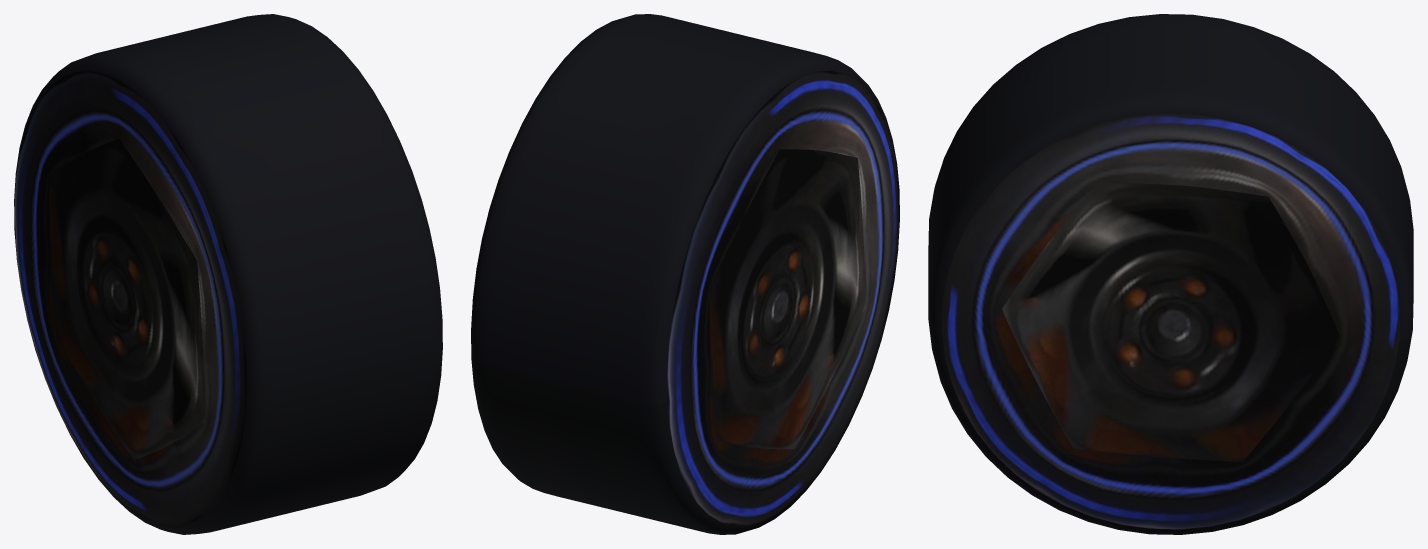
File: llanta.obj
3 views of the same model, side by side, from view 1: azimuth 30°, elevation 25°; view 2: azimuth 150°, elevation 25°; view 3: azimuth 270°, elevation 25° (orthographic).
Visible parts, largest first — view 1: 10604_slot_car_red_SG_v1_iterations-2.005; view 2: 10604_slot_car_red_SG_v1_iterations-2.005; view 3: 10604_slot_car_red_SG_v1_iterations-2.005.
Part boxes in pixels (x1,y1,x2,y2): 10604_slot_car_red_SG_v1_iterations-2.005: [14, 14, 442, 534]; 10604_slot_car_red_SG_v1_iterations-2.005: [471, 14, 899, 534]; 10604_slot_car_red_SG_v1_iterations-2.005: [928, 14, 1413, 534].
Bounding box in the file's own units: 0.3758 × 0.7895 × 0.7894.
